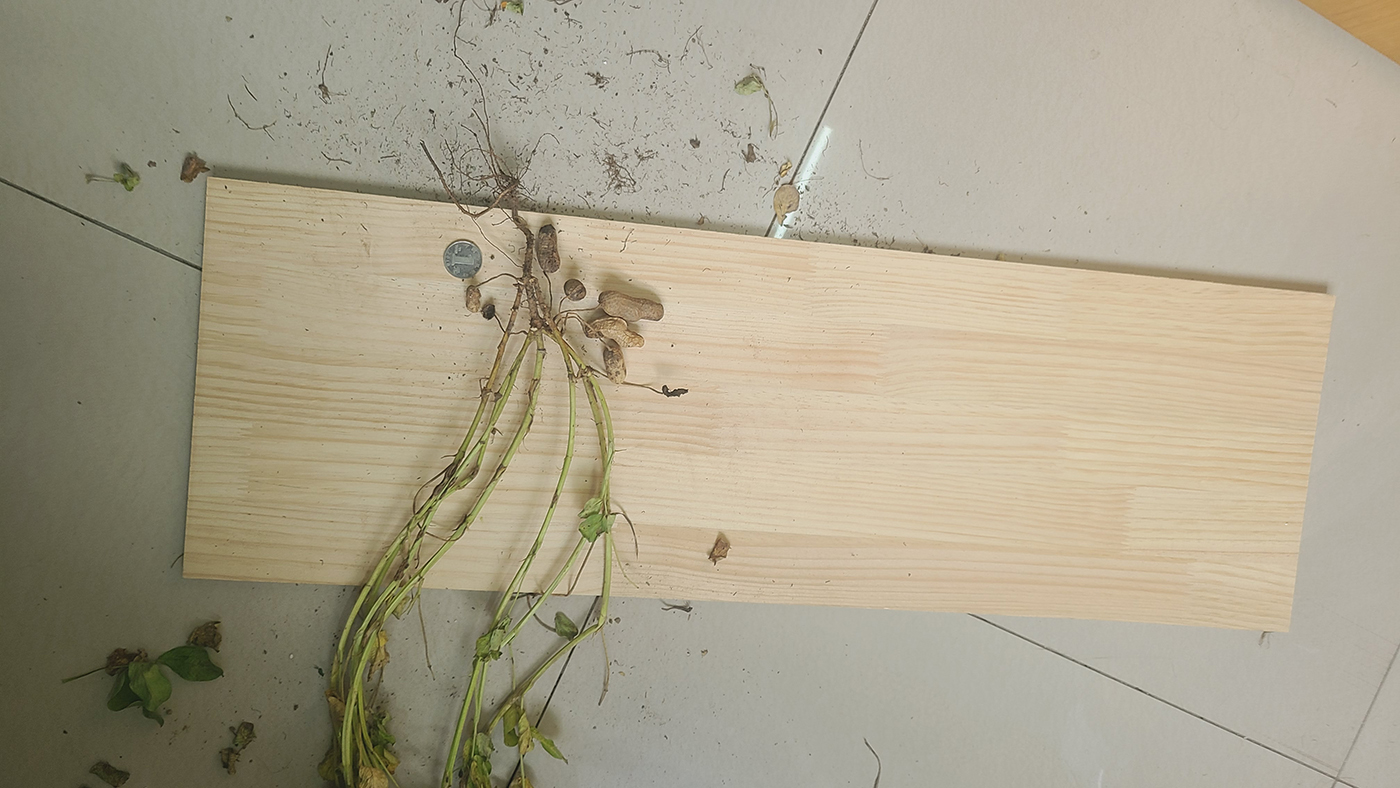h: (599, 291, 665, 322), (599, 317, 645, 350), (604, 346, 627, 384)
l: (536, 224, 562, 274), (564, 279, 586, 301), (465, 286, 482, 314), (483, 305, 496, 320)
